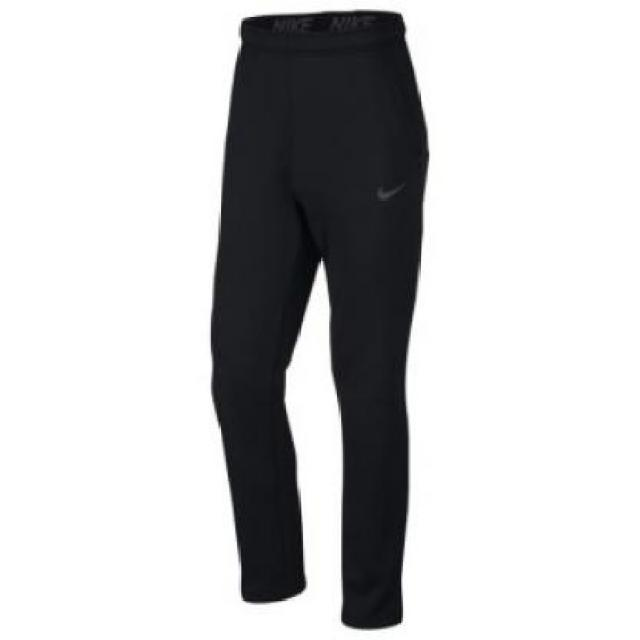Nike: (375, 181, 400, 198)
